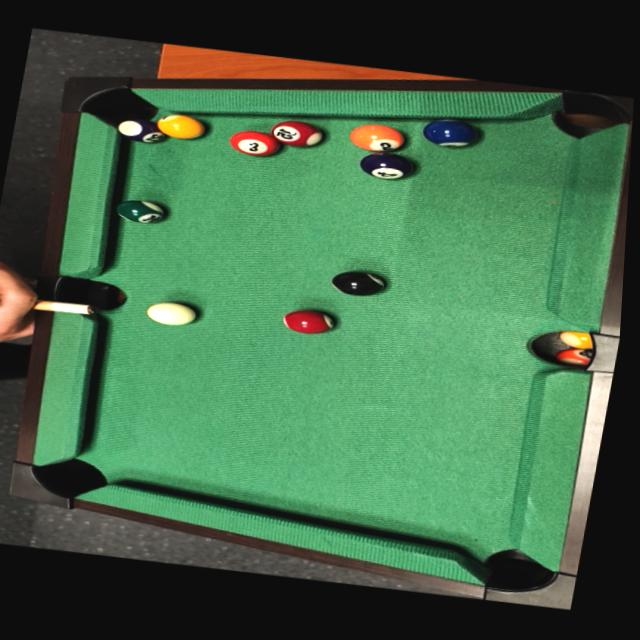cue ball: (142, 295, 201, 328)
other: (417, 112, 485, 151), (323, 264, 396, 299), (261, 116, 329, 151), (354, 145, 418, 182), (345, 119, 409, 154), (278, 303, 342, 337), (223, 125, 286, 159), (113, 194, 169, 227), (154, 109, 210, 141), (113, 115, 170, 145)
